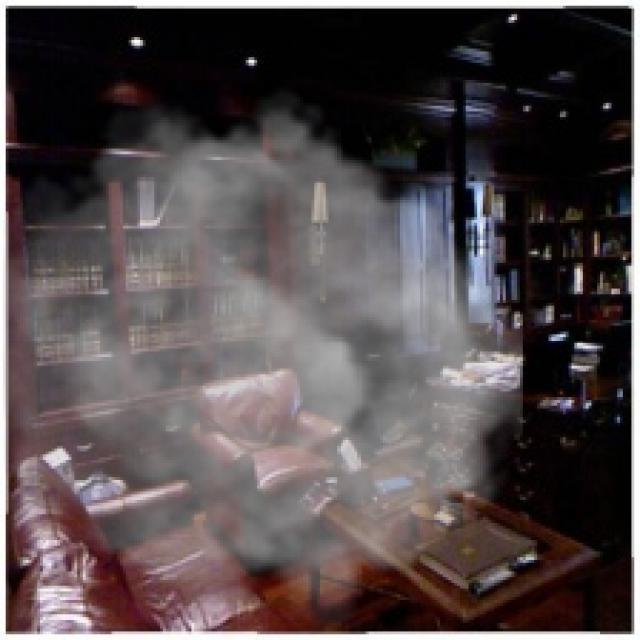Smoke: (3, 86, 523, 632)
